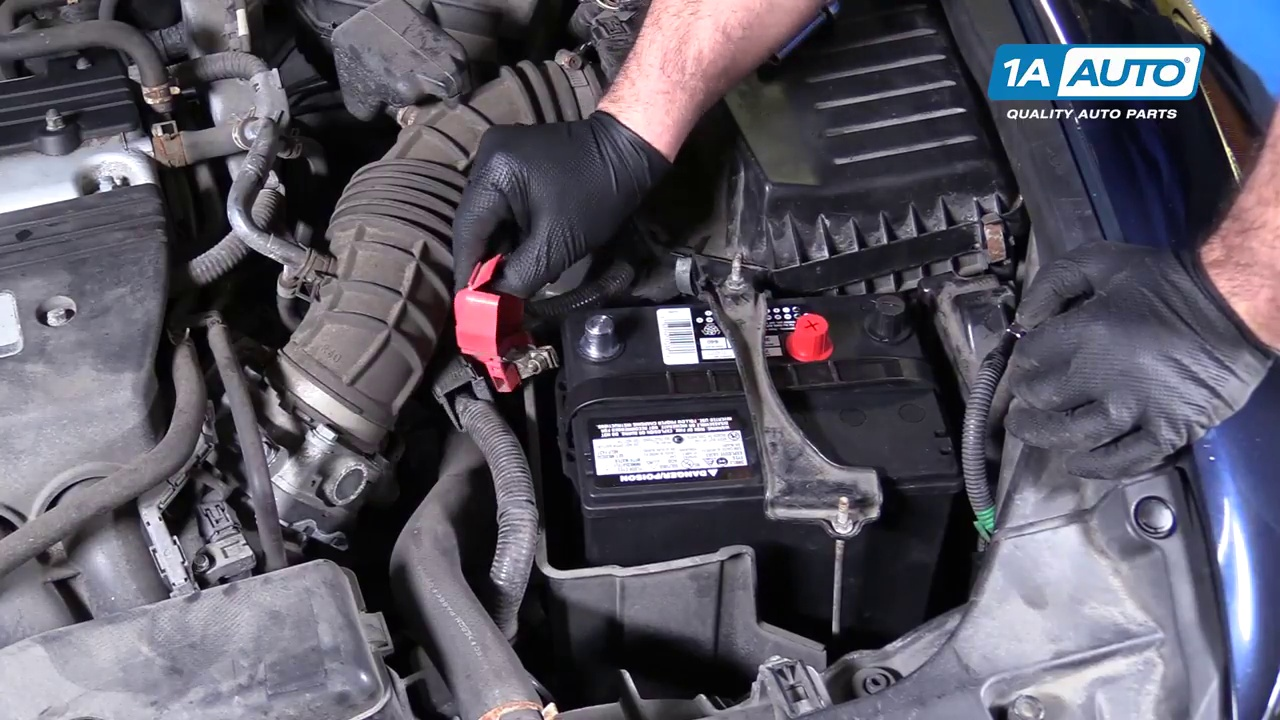battery: (551, 278, 959, 487)
pos_disconnected: (441, 229, 649, 388)
pos_touched: (440, 162, 654, 366)
